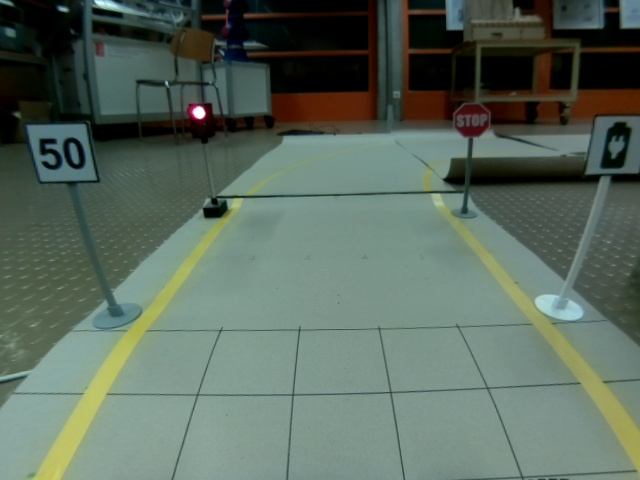battery: (584, 114, 640, 179)
speed50: (23, 121, 101, 184)
stop: (452, 101, 492, 138)
traffic light: (186, 101, 216, 140)
